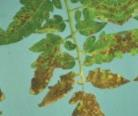Tomato Septoria leaf spot: (0, 0, 66, 48), (68, 0, 123, 40), (78, 28, 128, 67), (27, 31, 73, 57), (73, 16, 111, 38)
